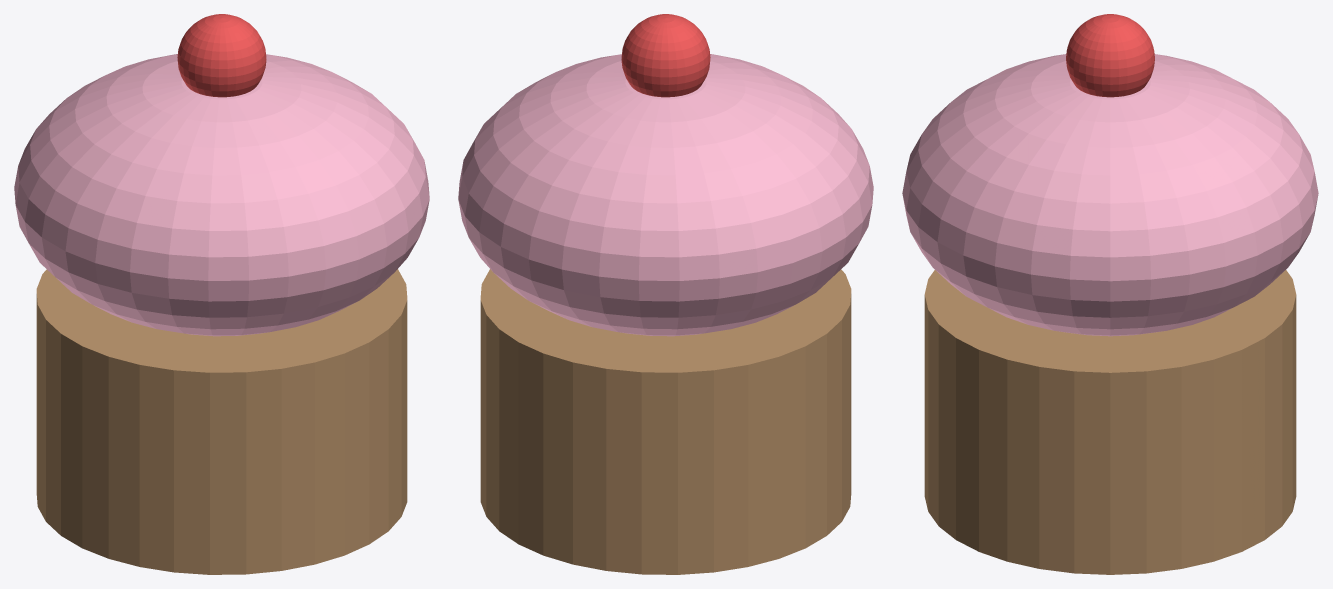
Rendered from cupcake.glb.
The picture shows the model from 3 angles, left to right: view 1: azimuth 30°, elevation 25°; view 2: azimuth 150°, elevation 25°; view 3: azimuth 270°, elevation 25°; orthographic projection.
Parts seen in each view (by area): view 1: Cylinder, Sphere, Sphere.001; view 2: Cylinder, Sphere, Sphere.001; view 3: Cylinder, Sphere, Sphere.001.
Boxes of the visible parts, <box> form: Cylinder: <box>36,269,407,574</box>; Sphere: <box>14,54,429,336</box>; Sphere.001: <box>177,14,266,97</box>; Cylinder: <box>480,269,851,574</box>; Sphere: <box>458,54,873,336</box>; Sphere.001: <box>621,14,710,97</box>; Cylinder: <box>924,270,1296,574</box>; Sphere: <box>902,54,1318,336</box>; Sphere.001: <box>1066,14,1154,97</box>.
Size of the model in its own units: 0.56 by 0.71 by 0.56.
